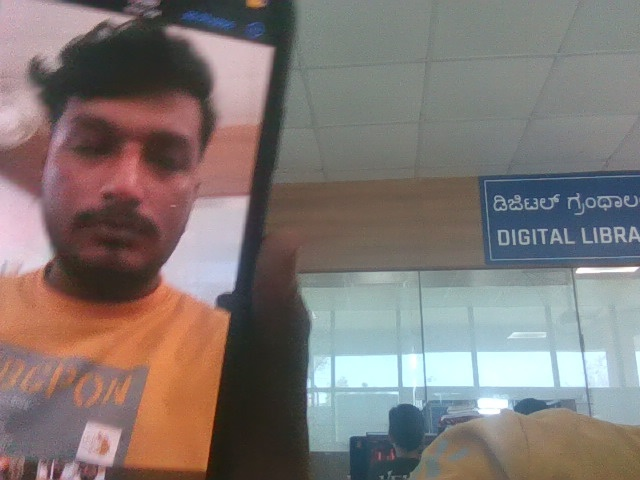fake: (20, 0, 233, 302)
